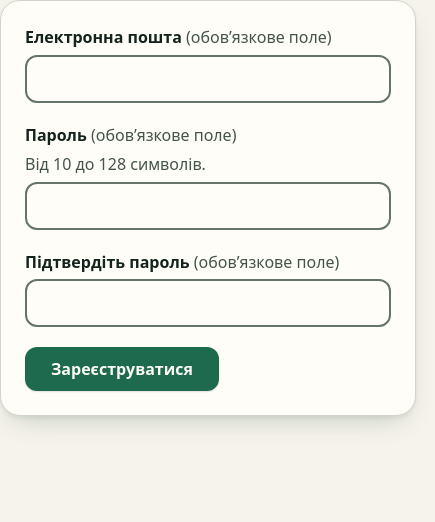
Test case: AuthForm › explains that the account exists and links to the login page on 409
Type "a@example.com" into the field labelled "Електронна пошта (обов’язкове поле)".
click(208, 79); type("a@example.com")  # box [25,55,391,103]
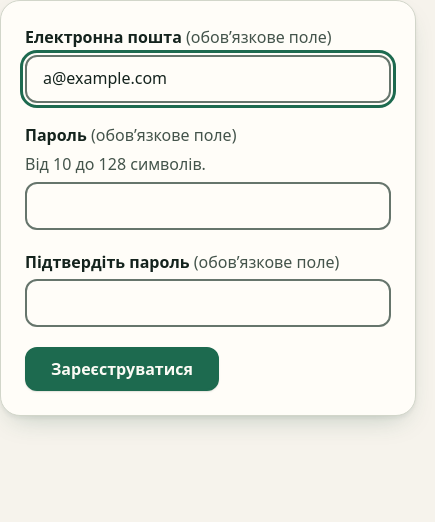
Type "long-enough-pass" into the password field labelled "Пароль (обов’язкове поле)".
click(208, 206); type("long-enough-pass")  # box [25,182,391,230]
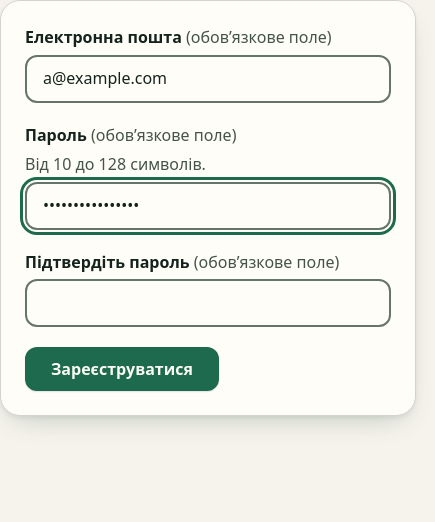
Type "long-enough-pass" into the password field labelled "Підтвердіть пароль (обов’язкове поле)".
click(208, 303); type("long-enough-pass")  # box [25,279,391,327]
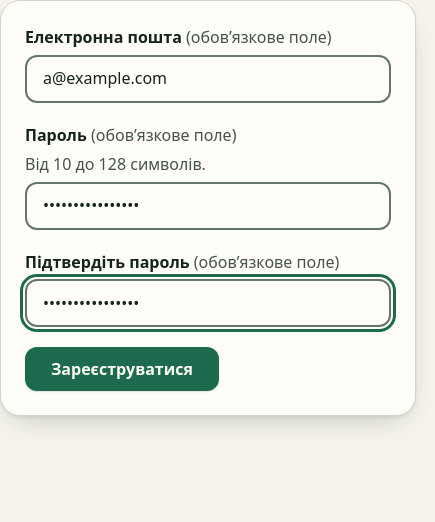
Click the button "Зареєструватися".
click(122, 369)  # box [25,347,219,391]
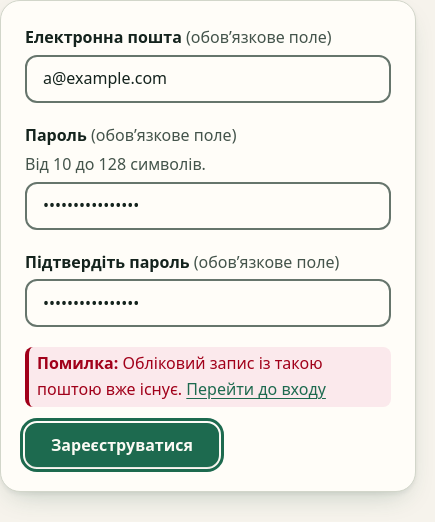
Now the message shows "Обліковий запис із такою поштою вже існує.", box [37,352,323,400]
